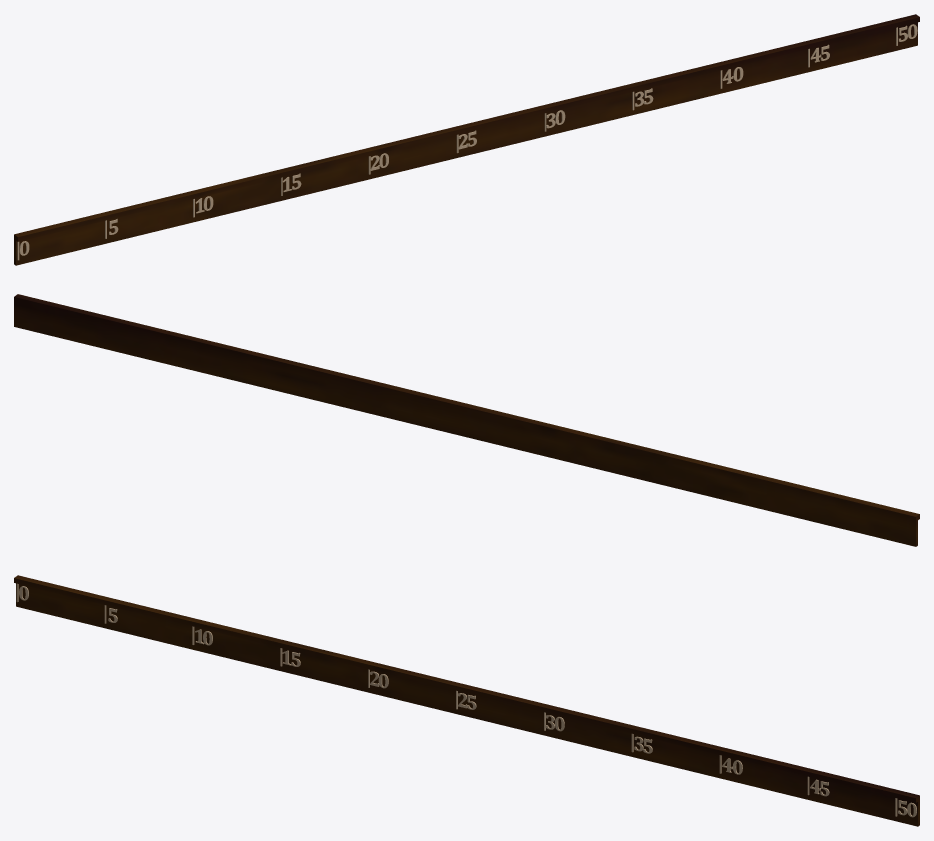
File: Penggaris_V2.fbx
3 views of the same model, one above another, from view 1: azimuth 30°, elevation 25°; view 2: azimuth 150°, elevation 25°; view 3: azimuth 330°, elevation 25° (orthographic).
Parts seen in each view (by area): view 1: Cube; view 2: Cube; view 3: Cube.
Boxes of the visible parts, x1=… form: Cube: x1=14, y1=14, x2=919, y2=265; Cube: x1=14, y1=294, x2=919, y2=546; Cube: x1=14, y1=575, x2=919, y2=826.
Size of the model in its own units: 235 by 7.47 by 1.75.
2 materials, 1 textured.
